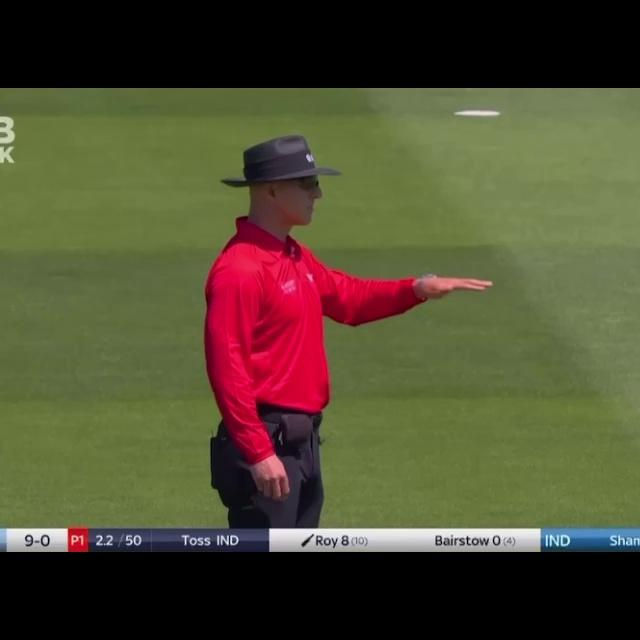umpire: (182, 122, 503, 522)
